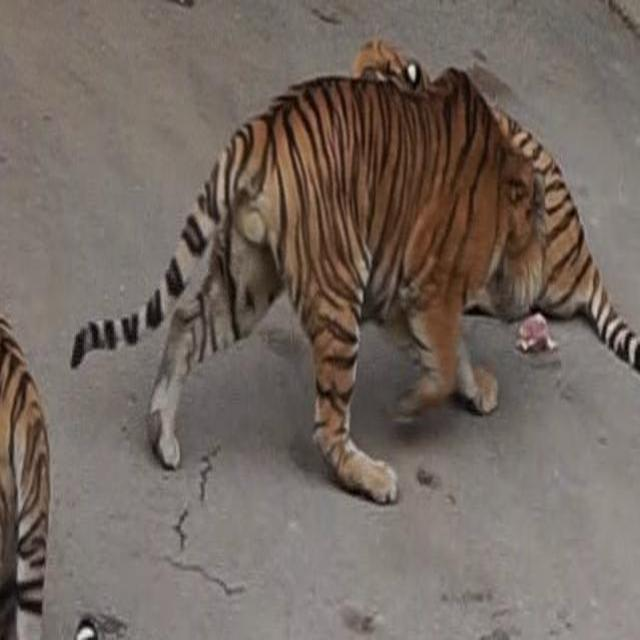tiger: (68, 36, 639, 505), (0, 309, 51, 639)
